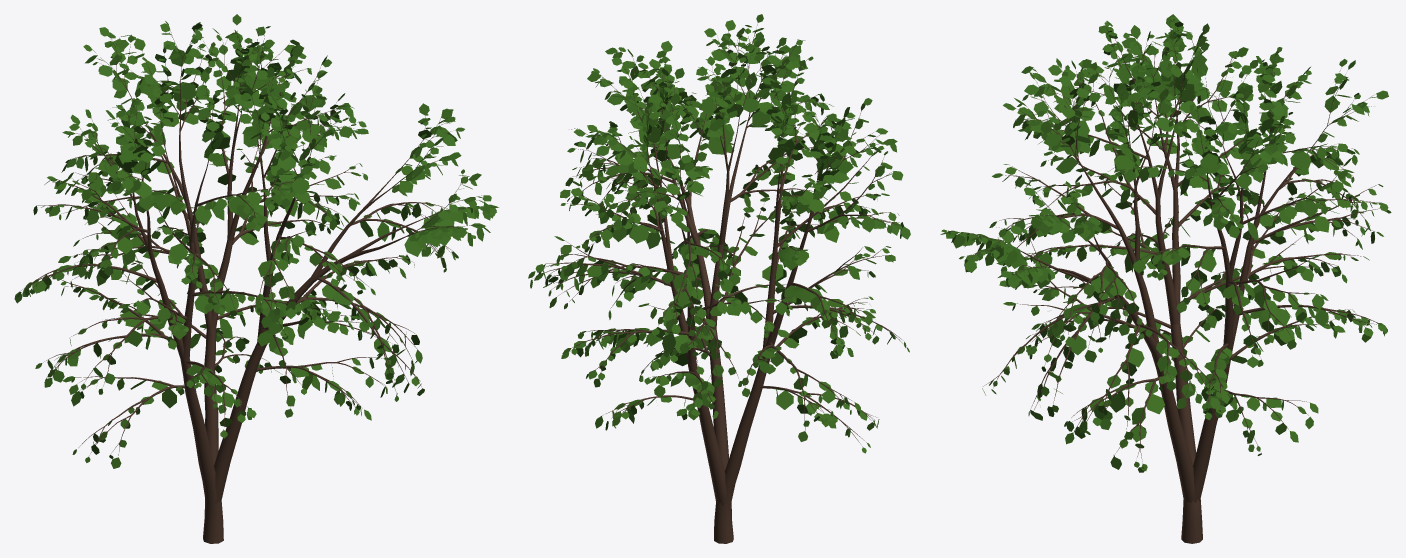
The model's file is Tree 1.fbx.
3 views of the same model, side by side, from view 1: azimuth 30°, elevation 25°; view 2: azimuth 150°, elevation 25°; view 3: azimuth 270°, elevation 25° (orthographic). The views are drawn at different scales.
Visible parts, largest first — view 1: leaves.002, tree.002; view 2: leaves.002, tree.002; view 3: leaves.002, tree.002.
Part boxes in pixels (box(x1,y1,x2,y2)): leaves.002: box(14, 14, 498, 468); tree.002: box(21, 26, 482, 543); leaves.002: box(528, 14, 910, 453); tree.002: box(531, 24, 906, 543); leaves.002: box(940, 14, 1391, 472); tree.002: box(948, 22, 1381, 543).
Size of the model in its own units: 12.92 by 16.43 by 13.38.
